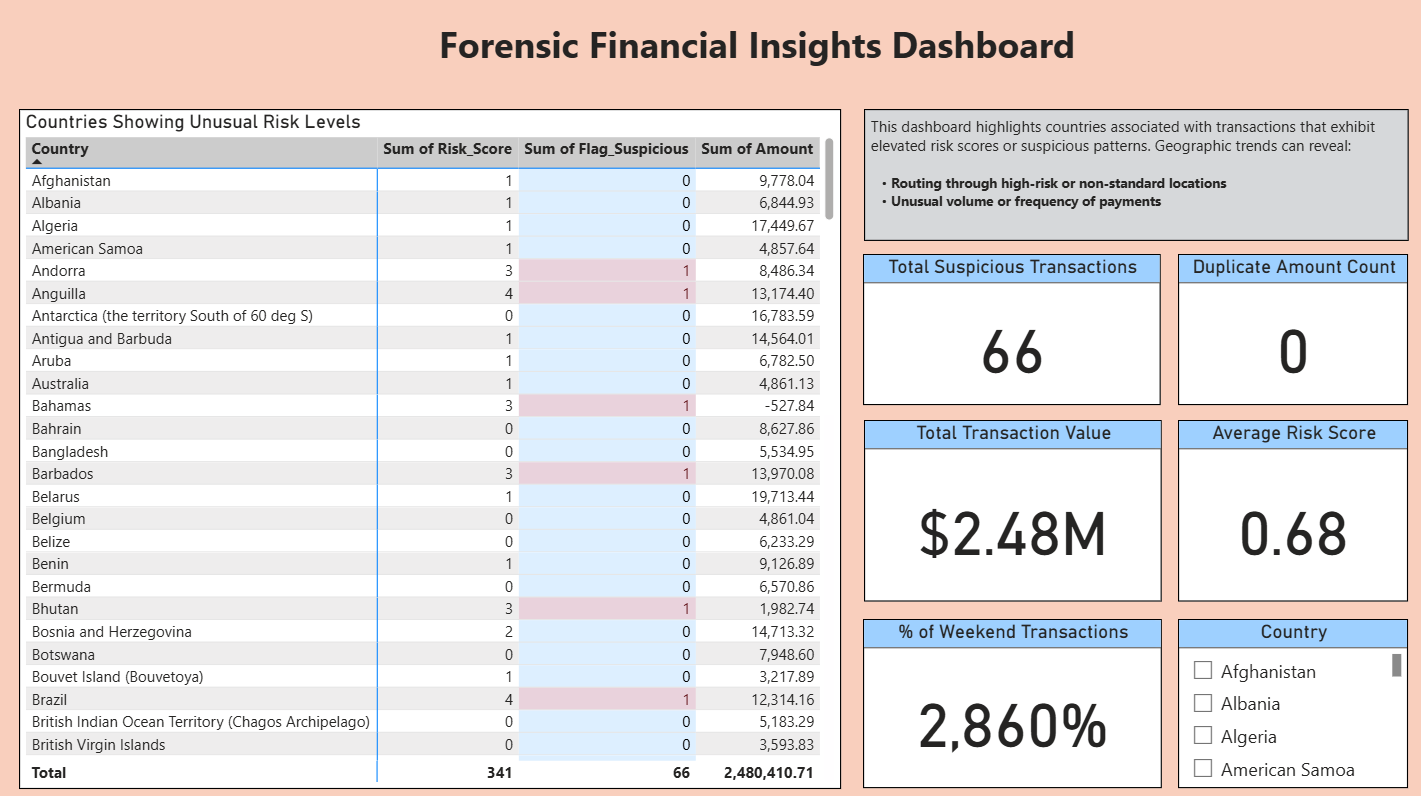

The dashboard page shown, as its layout file describes it:
{"tool":"powerbi","page":{"name":"Page 1","canvas":[1280,720],"ordinal":0},"visuals":[{"type":"pivotTable","title":"Countries Showing Unusual Risk Levels","fields":{"Rows":["Forensic_Transaction_Data.Country"],"Values":["Sum(Forensic_Transaction_Data.Risk_Score)","Sum(Forensic_Transaction_Data.Flag_Suspicious)","Sum(Forensic_Transaction_Data.Amount)"]},"box":[23.2,102.2,729.4,602.8],"z":0},{"type":"card","title":"Average Risk Score","fields":{"Values":["Avg(Forensic_Transaction_Data.Risk_Score)"]},"box":[1051.2,377.7,204.4,161.5],"z":1000},{"type":"card","title":"Total Suspicious Transactions","fields":{"Values":["Sum(Forensic_Transaction_Data.Flag_Suspicious)"]},"box":[771.2,230.2,263.7,133.6],"z":2000},{"type":"card","title":"Total Transaction Value","fields":{"Values":["Sum(Forensic_Transaction_Data.Amount)"]},"box":[772.4,377.7,263.7,161.5],"z":3000},{"type":"card","title":"% of Weekend Transactions","fields":{"Values":["Forensic_Transaction_Data.PercentWeekend"]},"box":[771.3,554,264.8,149.8],"z":4000},{"type":"card","title":"Duplicate Amount Count","fields":{"Values":["Sum(Forensic_Transaction_Data.Duplicate_Amount_Flag)"]},"box":[1051.2,230.2,204.4,133.6],"z":5000},{"type":"textbox","box":[219.5,0,915.3,87.1],"z":6000},{"type":"textbox","box":[772.6,102.1,483.2,117.3],"z":6001},{"type":"slicer","title":"Country","fields":{"Values":["Forensic_Transaction_Data.Country"]},"box":[1051,554,204,150],"z":6002}]}

Visuals, with their boxes in screenshot pixels (x1, y1, x2, y2), scaled from the page's 1280x720 canvas onto the 1421x796 screenshot:
"Countries Showing Unusual Risk Levels" pivotTable: (left=26, top=113, right=836, bottom=779)
"Average Risk Score" card: (left=1167, top=418, right=1394, bottom=596)
"Total Suspicious Transactions" card: (left=856, top=254, right=1149, bottom=402)
"Total Transaction Value" card: (left=857, top=418, right=1150, bottom=596)
"% of Weekend Transactions" card: (left=856, top=612, right=1150, bottom=778)
"Duplicate Amount Count" card: (left=1167, top=254, right=1394, bottom=402)
textbox: (left=244, top=0, right=1260, bottom=96)
textbox: (left=858, top=113, right=1394, bottom=243)
"Country" slicer: (left=1167, top=612, right=1393, bottom=778)
